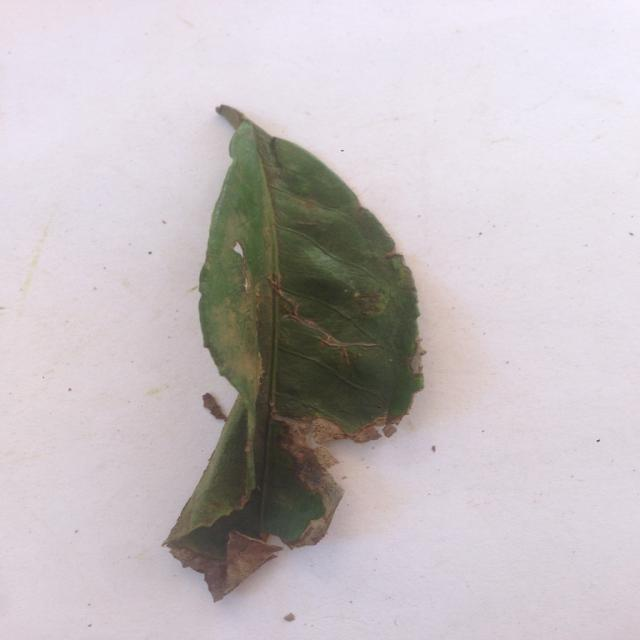Brown Blight: (142, 99, 432, 600)
